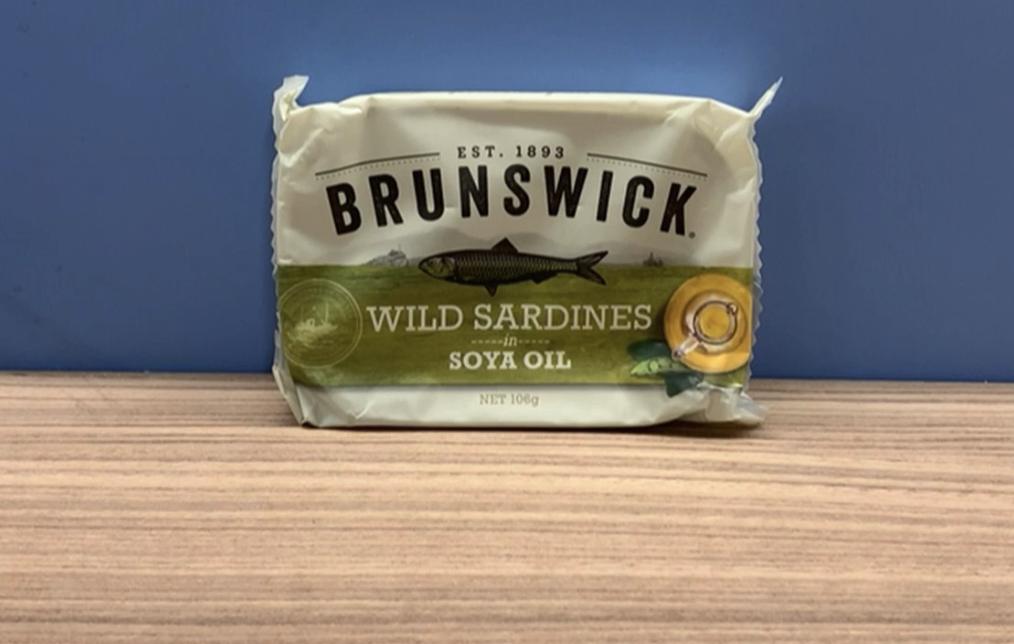sardines_100g-199g: (293, 122, 744, 412)
